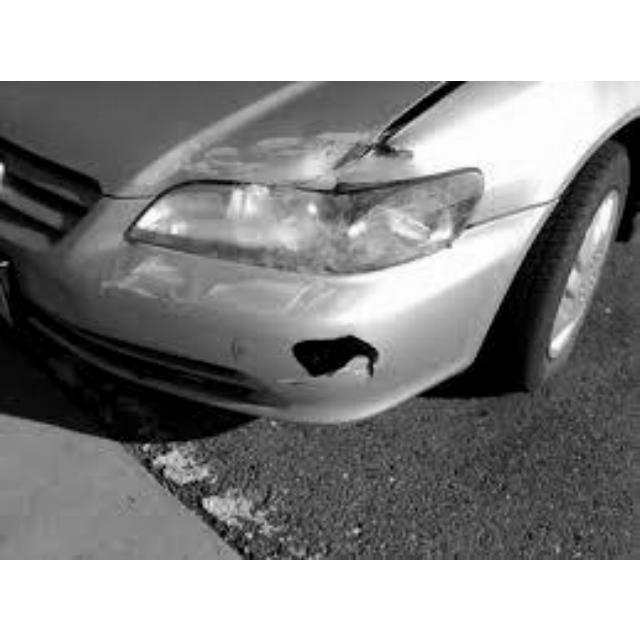bonnet-dent: (168, 80, 494, 198)
front-bumper-dent: (100, 234, 403, 399)
